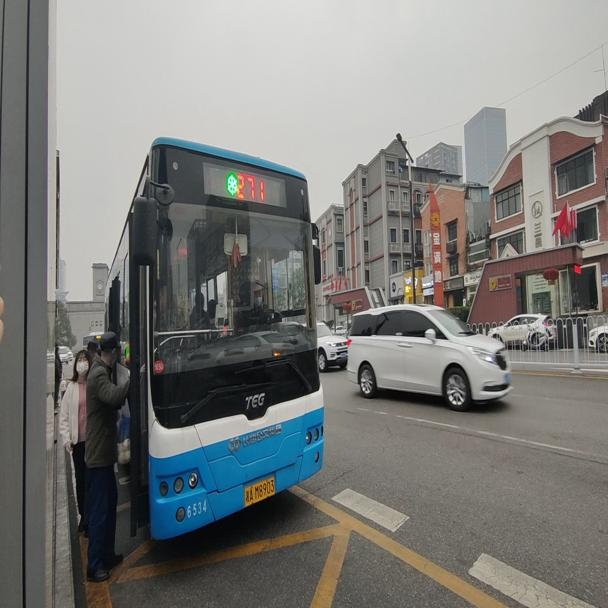bus: (104, 130, 324, 544)
screen: (235, 168, 265, 200)
